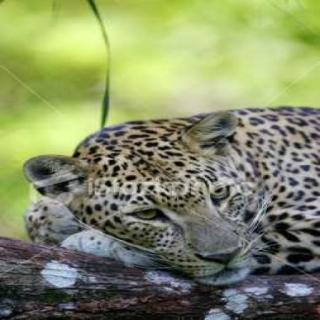Leopard: (8, 82, 320, 298)
